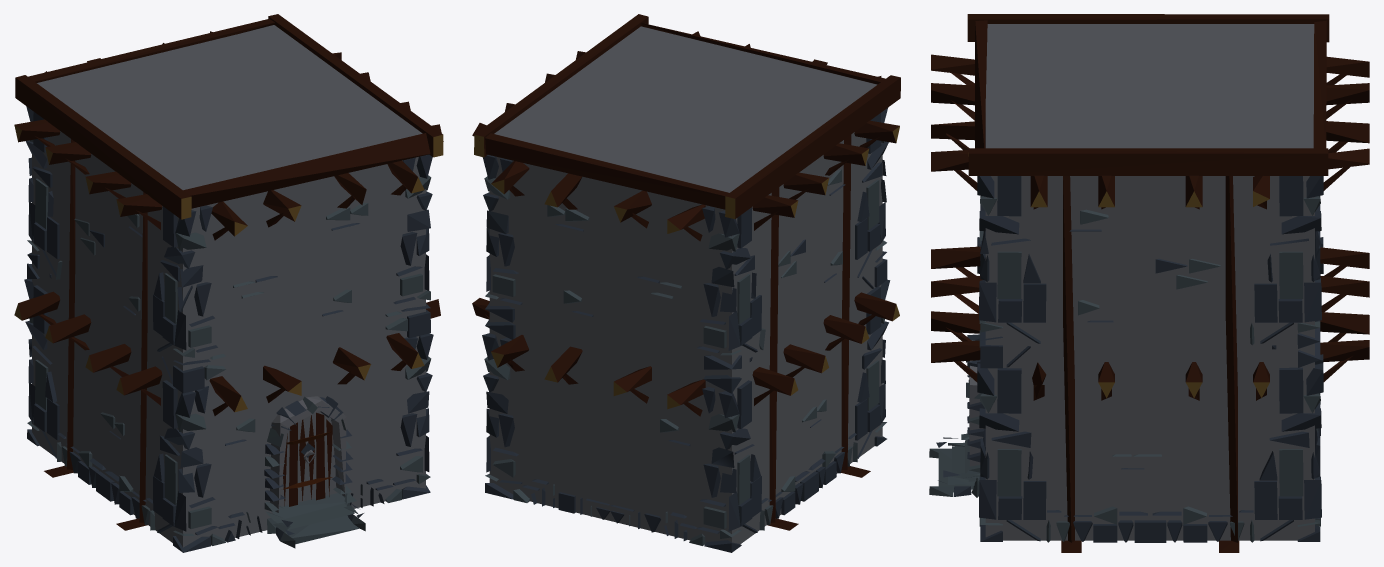
The model's file is House_3.fbx.
3 renders of one model, left to right at view 1: azimuth 30°, elevation 25°; view 2: azimuth 150°, elevation 25°; view 3: azimuth 270°, elevation 25°, orthographic. The views are drawn at different scales.
Visible parts, largest first — view 1: High_House_3; view 2: High_House_3; view 3: High_House_3.
Boxes of the visible parts, x1=… form: High_House_3: x1=14, y1=14, x2=443, y2=552; High_House_3: x1=472, y1=14, x2=900, y2=552; High_House_3: x1=929, y1=14, x2=1369, y2=552.
Size of the model in its own units: 194 by 209 by 212.
